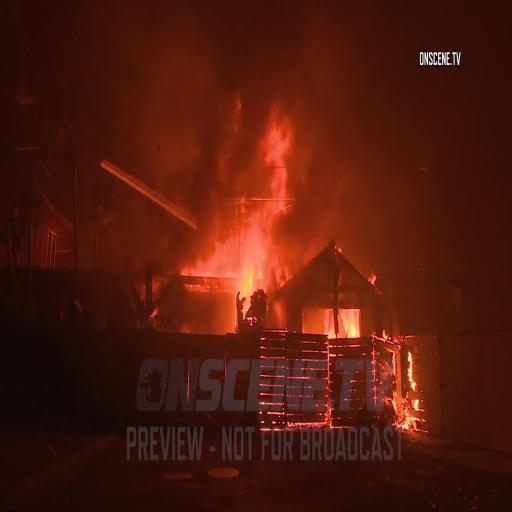fire: (232, 263, 265, 312)
